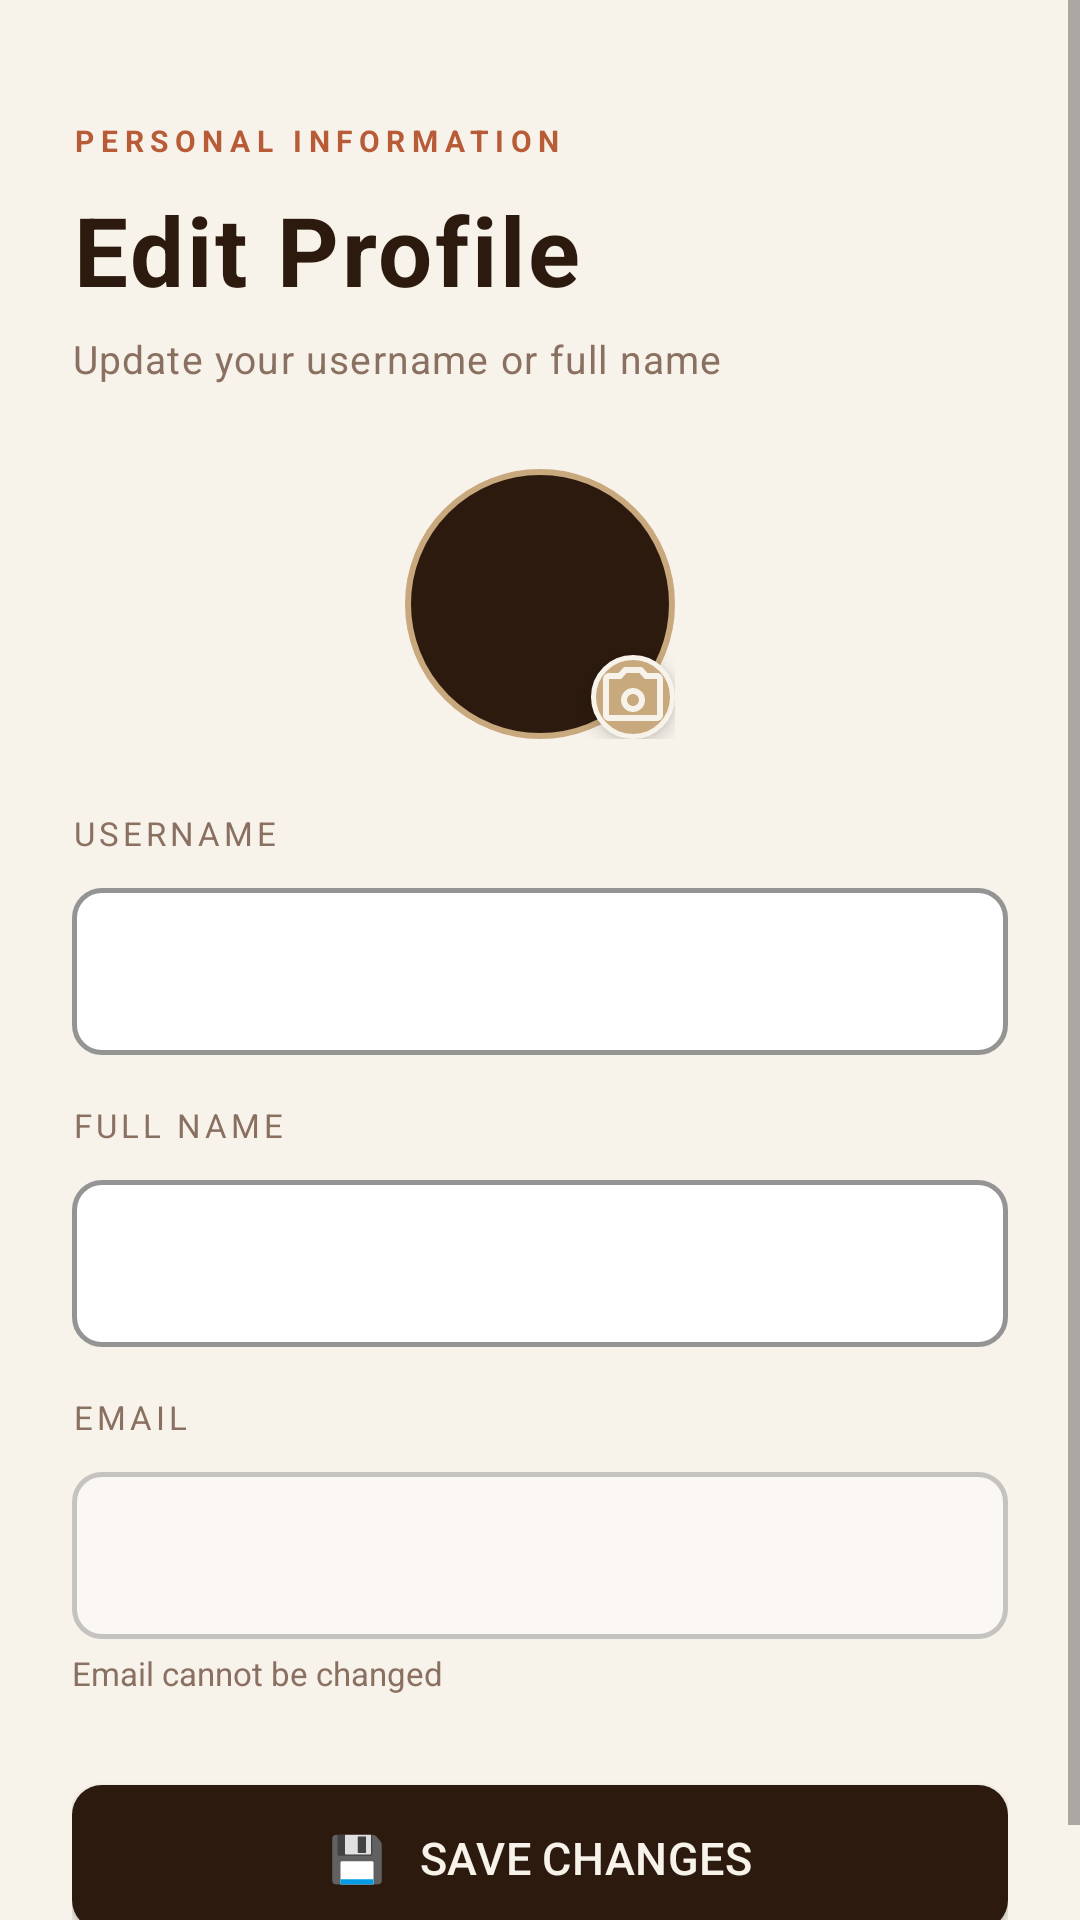

Icons on this 1080px x 1920px Android screen, each with the point to tap as (x=x, y=y):
Change profile photo: (x=633, y=697)
